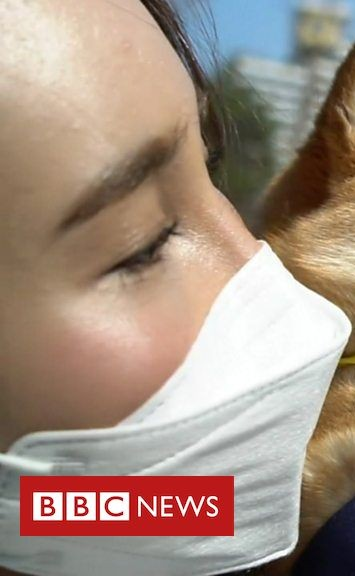with_mask: (1, 1, 349, 576)
